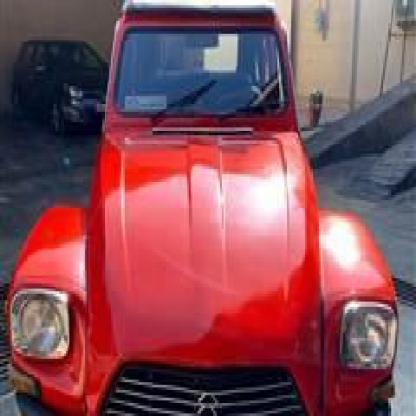Car: (0, 0, 395, 416), (16, 39, 105, 137)
